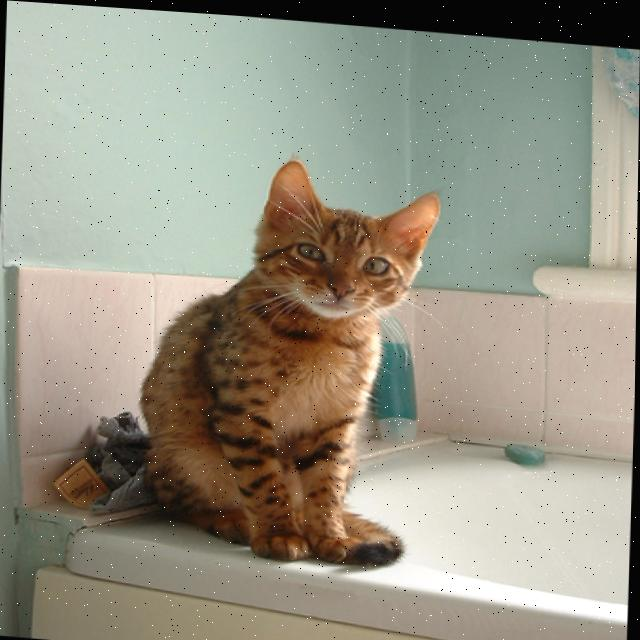Bengal: (130, 123, 462, 582)
